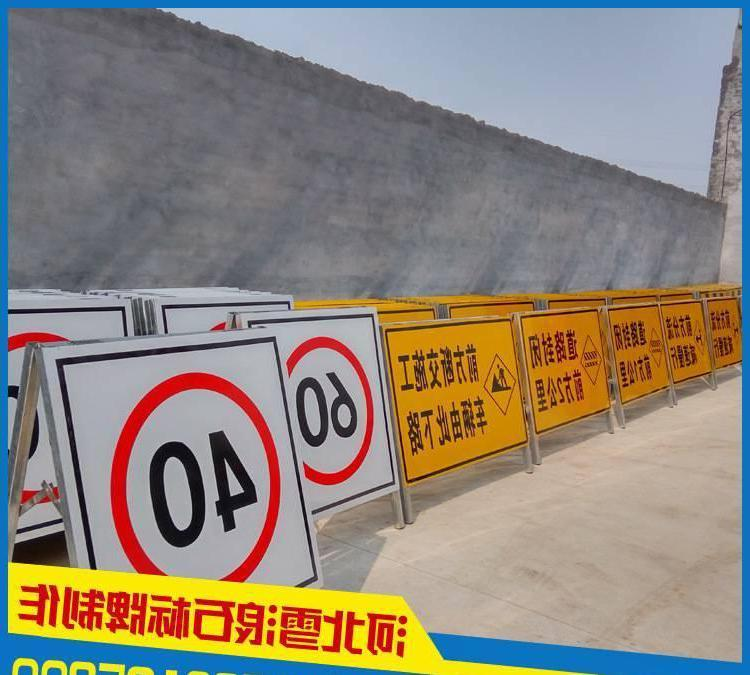sign: (385, 315, 514, 478), (523, 318, 610, 443), (661, 300, 745, 380), (611, 302, 671, 410)
